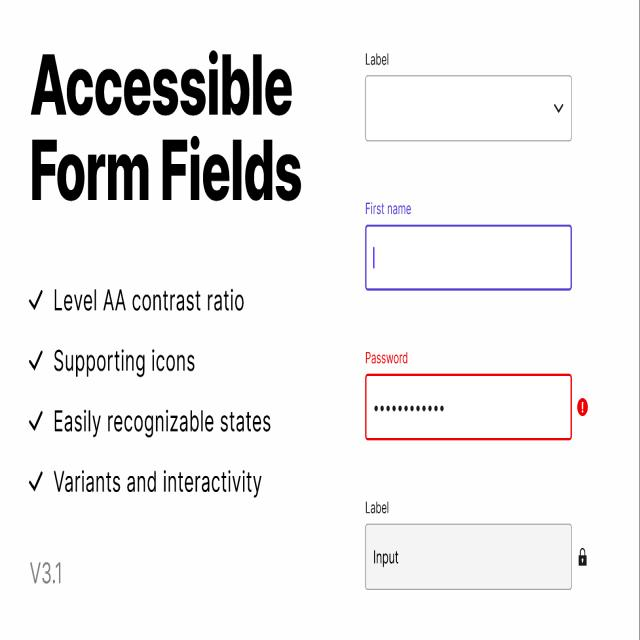input field: (367, 224, 571, 289), (365, 376, 572, 440), (365, 524, 572, 588), (364, 84, 572, 144)
text: (6, 279, 280, 522)
